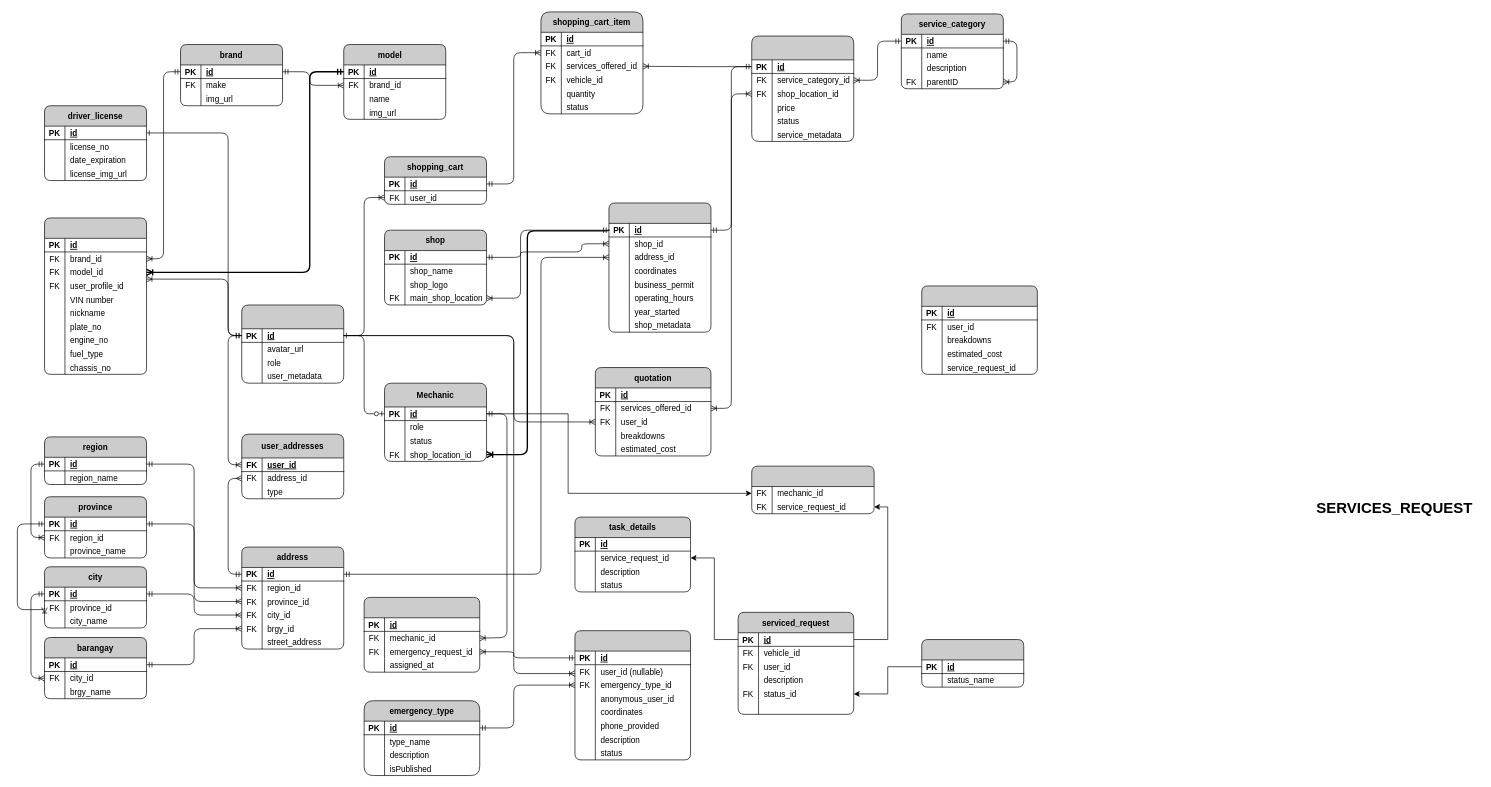
Some shapes in this 1491 by 787 pixel diagram are drawn without their labels. Each missing label, with the box of its shape:
emergency_request: (574, 630, 691, 760)
emergency_request_team: (363, 597, 480, 672)
invoice: (921, 285, 1037, 374)
service_request_assignment: (751, 465, 874, 514)
service_status: (921, 639, 1024, 687)
services_offered: (751, 35, 854, 141)
shop_location: (608, 202, 711, 332)
user_profile: (241, 304, 344, 383)
vehicle: (44, 217, 147, 374)
